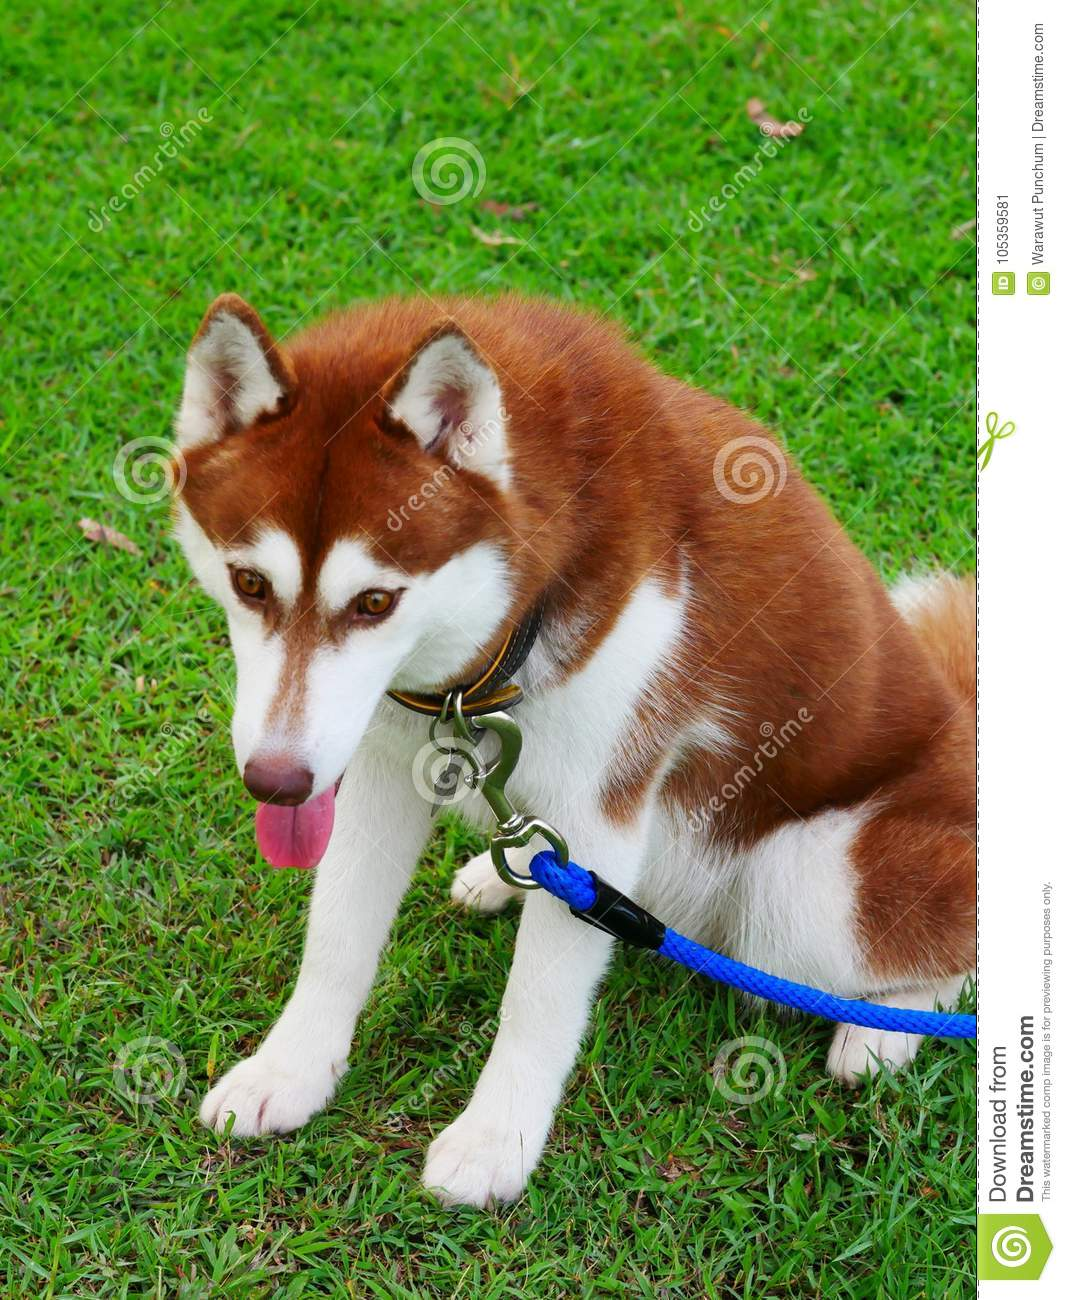husky: (112, 260, 866, 1072)
